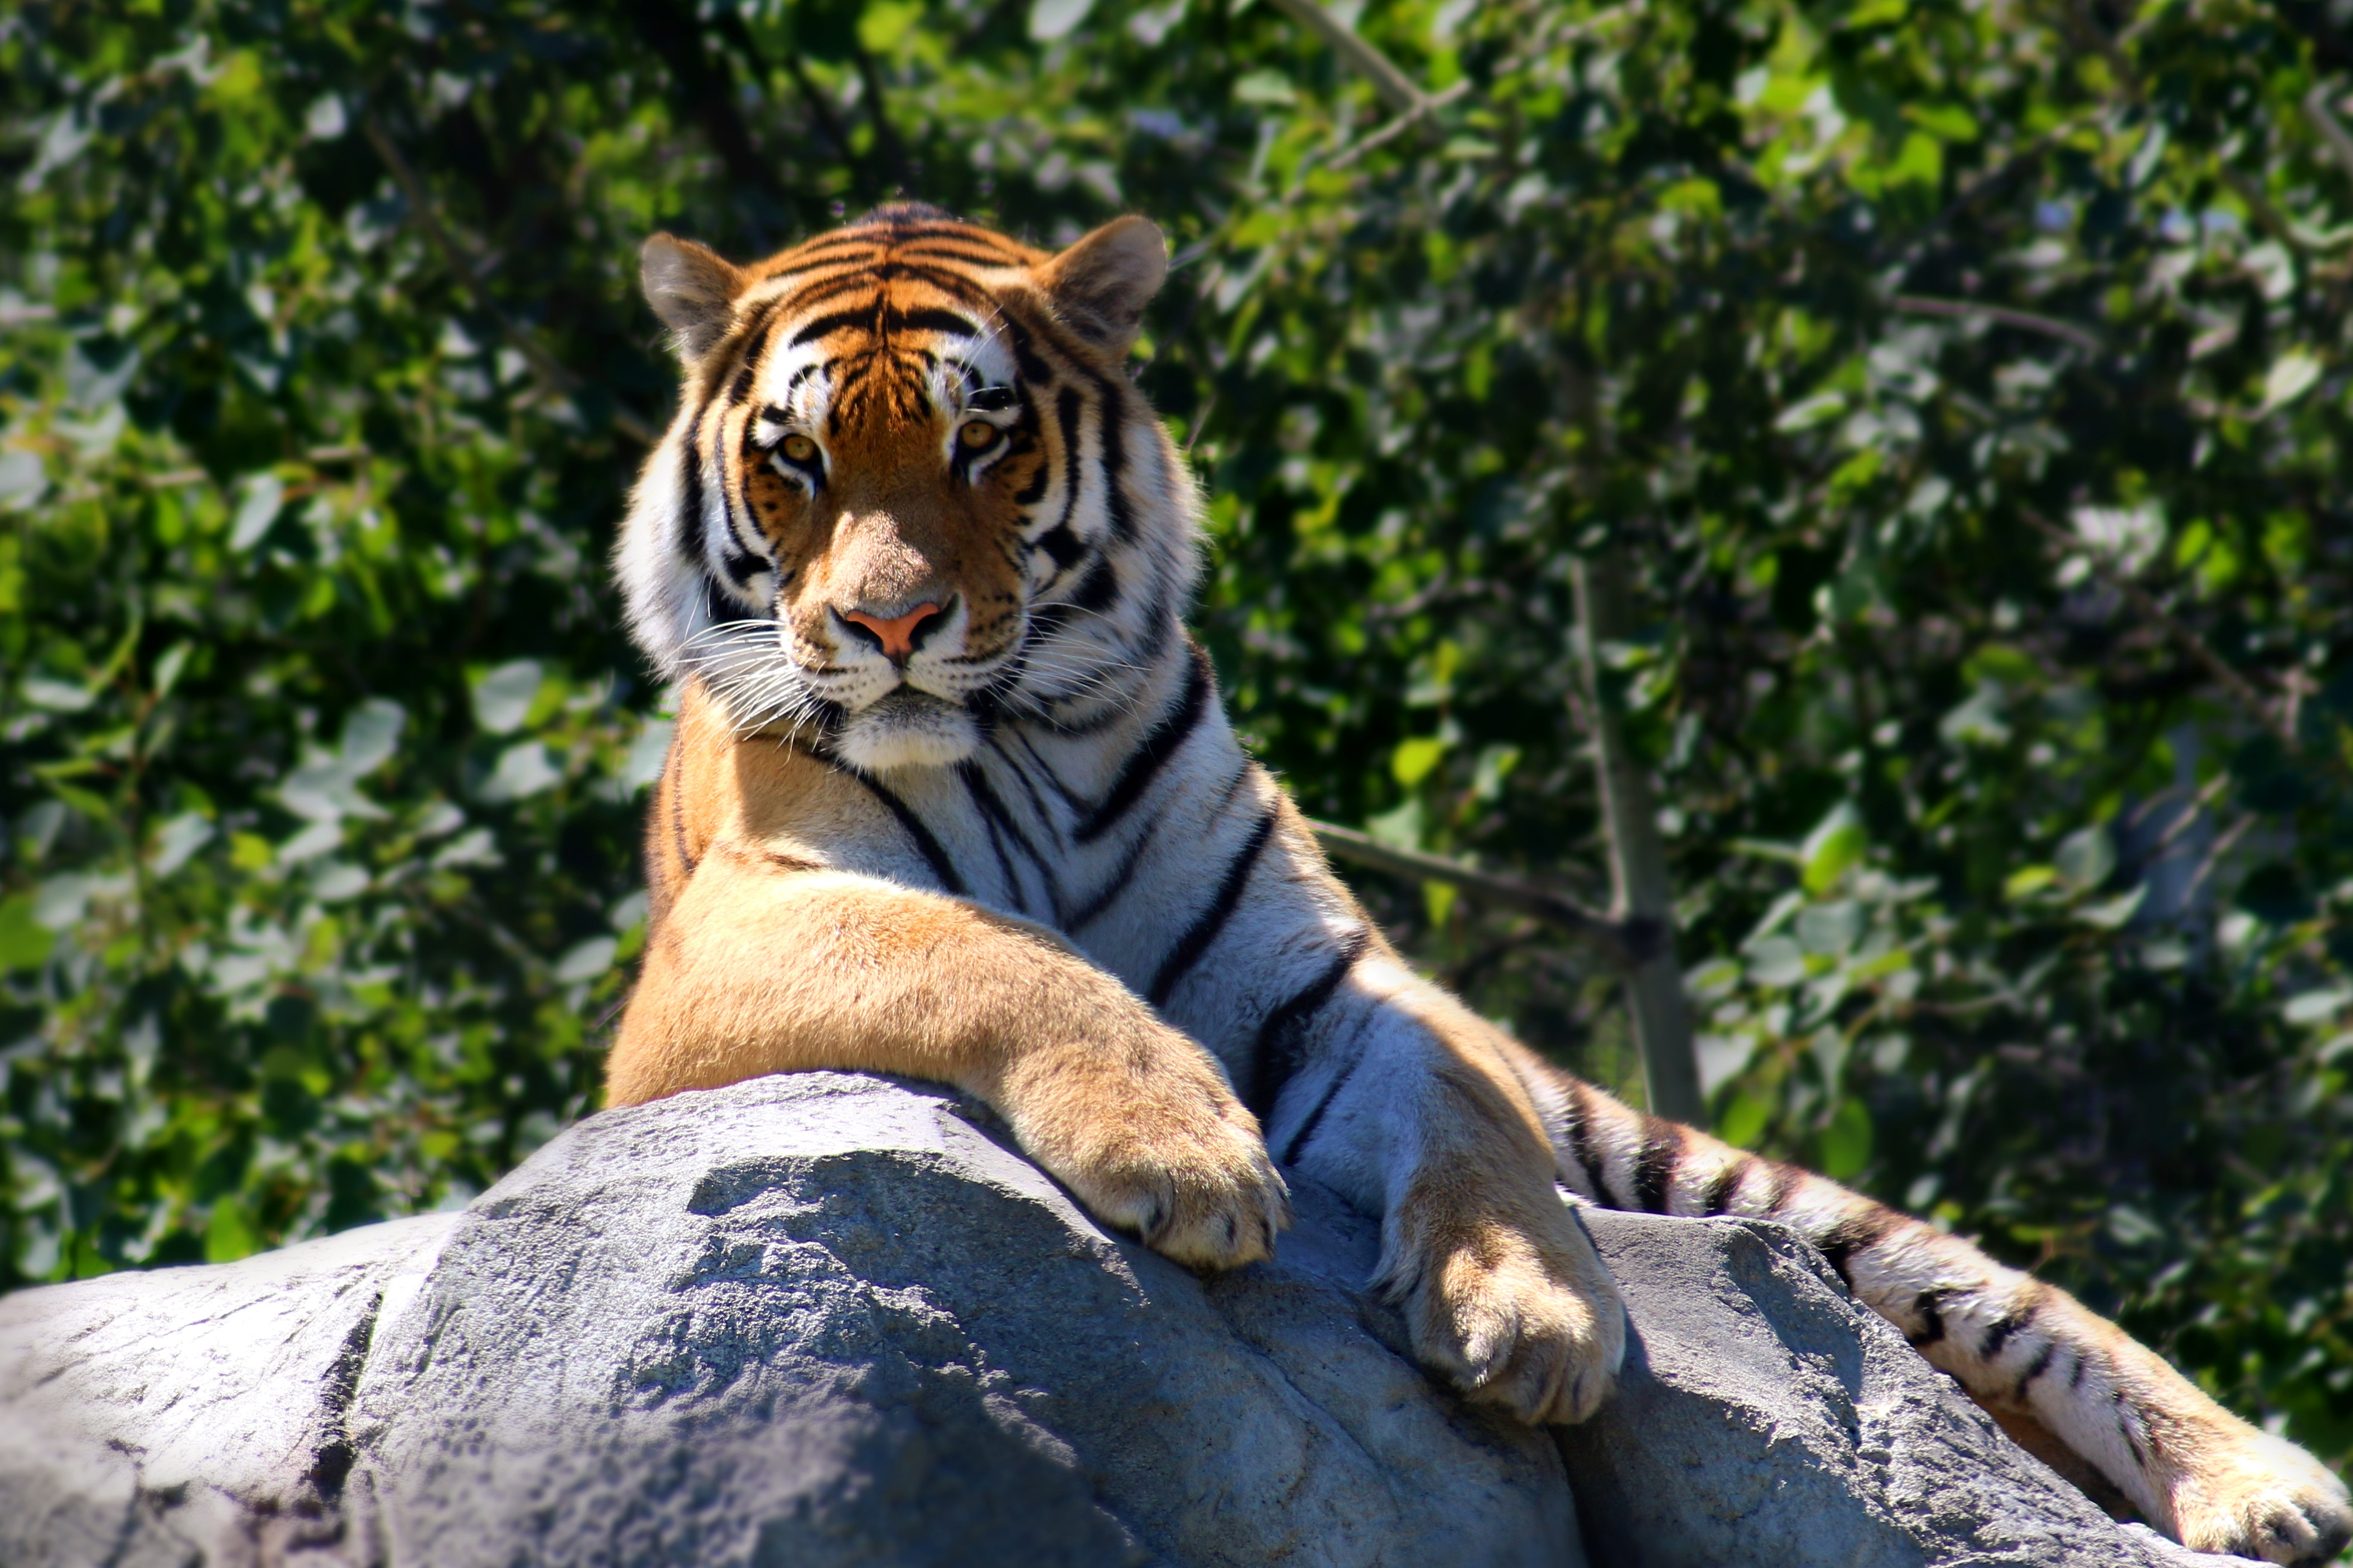tiger: (563, 217, 1629, 1402)
